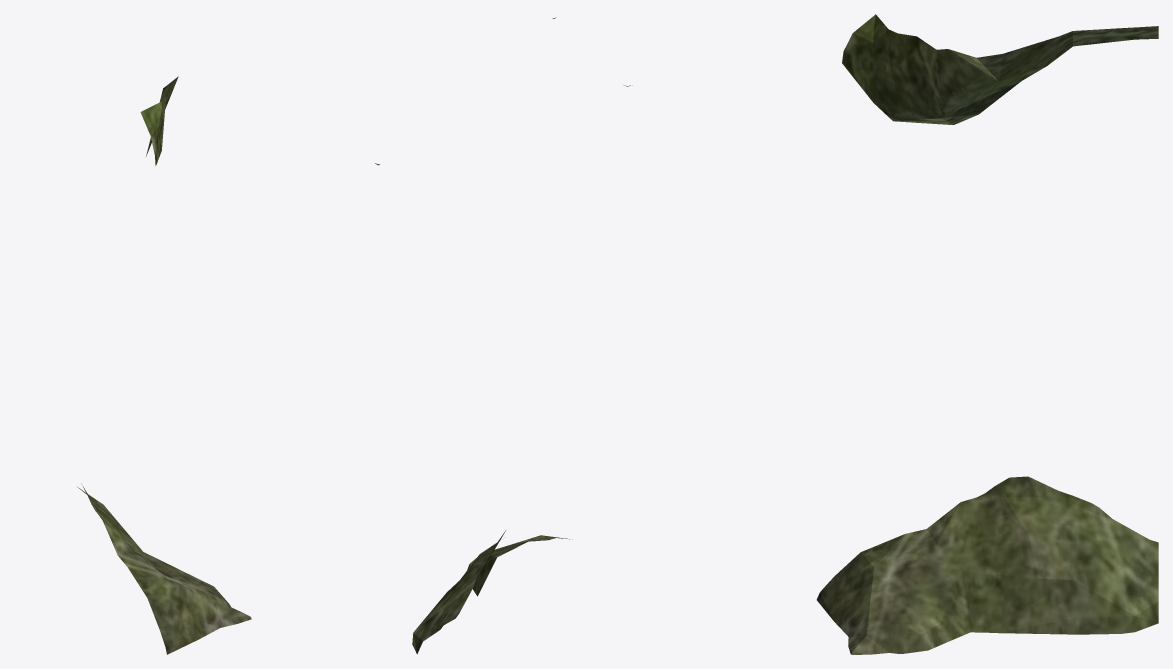
3 views of the same model, side by side, from view 1: azimuth 30°, elevation 25°; view 2: azimuth 150°, elevation 25°; view 3: azimuth 270°, elevation 25° (orthographic). The views are drawn at different scales.
Size of the model in its own units: 0.7781 by 2.95 by 2.46.
Materials: 1 (1 with a texture image).
